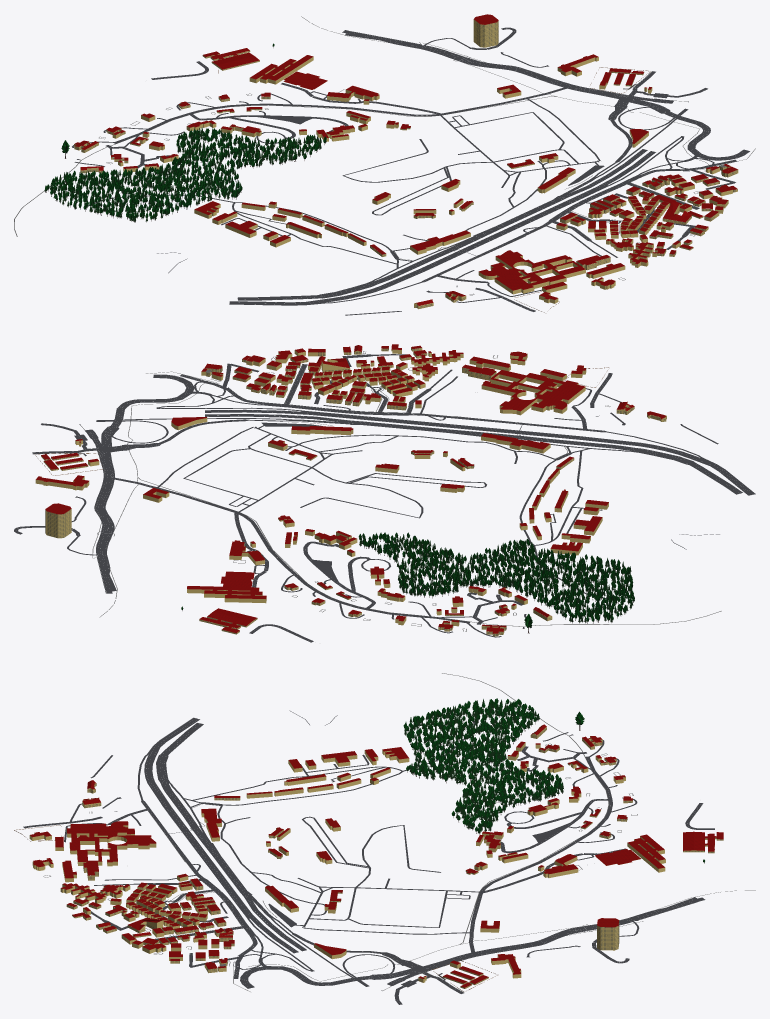
Rendered from osm3d.glb.
3 renders of one model, top to bottom at view 1: azimuth 30°, elevation 25°; view 2: azimuth 150°, elevation 25°; view 3: azimuth 270°, elevation 25°, orthographic. The views are drawn at different scales.
Parts seen in each view (by area): view 1: ASPHALT, RoofingTiles010, Plaster002, TextureAtlas c1d2f185, Windows, Concrete034; view 2: ASPHALT, RoofingTiles010, Plaster002, TextureAtlas c1d2f185, Windows, Concrete034; view 3: ASPHALT, RoofingTiles010, Plaster002, TextureAtlas c1d2f185, Windows, Concrete034.
Boxes of the visible parts, left/top/right/bottom form: ASPHALT: left=72, top=27, right=749, bottom=315; RoofingTiles010: left=74, top=14, right=737, bottom=305; Plaster002: left=74, top=19, right=738, bottom=309; TextureAtlas c1d2f185: left=44, top=43, right=326, bottom=222; Windows: left=74, top=21, right=737, bottom=308; Concrete034: left=14, top=16, right=755, bottom=295; ASPHALT: left=14, top=354, right=755, bottom=642; RoofingTiles010: left=36, top=344, right=665, bottom=633; Plaster002: left=35, top=347, right=666, bottom=636; TextureAtlas c1d2f185: left=181, top=532, right=634, bottom=633; Windows: left=43, top=345, right=666, bottom=635; Concrete034: left=79, top=351, right=721, bottom=631; ASPHALT: left=23, top=710, right=714, bottom=1004; RoofingTiles010: left=30, top=724, right=723, bottom=987; Plaster002: left=29, top=727, right=723, bottom=988; TextureAtlas c1d2f185: left=403, top=698, right=704, bottom=863; Windows: left=67, top=728, right=721, bottom=988; Concrete034: left=43, top=673, right=755, bottom=991.
Bounding box in the file's own units: 1379 × 45 × 1303.
Materials: 18 (18 with a texture image).
